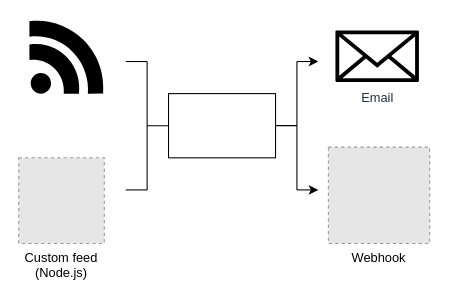
This 449x300 diagram has some shape labels left out. Grey dashed boxes stand in for pictures. Here are the shapes that lost their labels. From the top down, the box of each, then its label:
(28, 18, 104, 94): Feed (RSS / Atom)
(167, 93, 276, 158): FeedRouter
